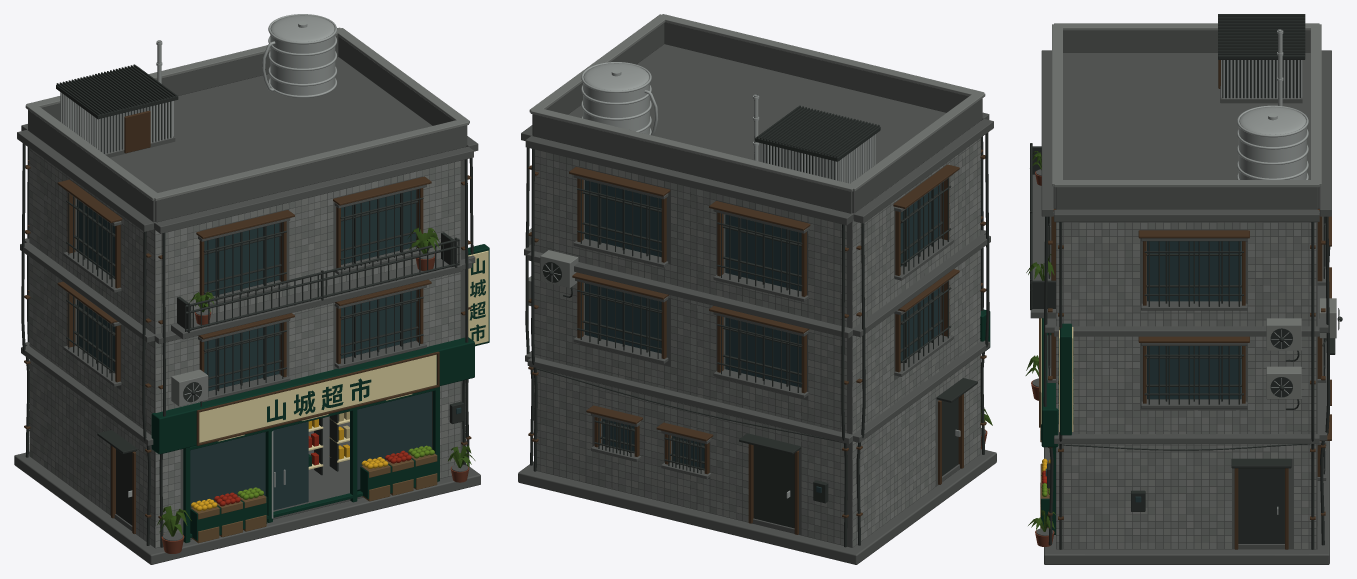
The model's file is runner-shop-01.glb.
3 renders of one model, left to right at view 1: azimuth 30°, elevation 25°; view 2: azimuth 150°, elevation 25°; view 3: azimuth 270°, elevation 25°, orthographic. The views are drawn at different scales.
Parts seen in each view (by area): view 1: supermarket-v1; view 2: supermarket-v1; view 3: supermarket-v1.
Boxes of the visible parts, x1,y1,x2,y2 form: supermarket-v1: [14, 14, 489, 564]; supermarket-v1: [518, 14, 996, 564]; supermarket-v1: [1025, 14, 1342, 564].
Bounding box in the file's own units: 7.59 × 8.5 × 5.7.
